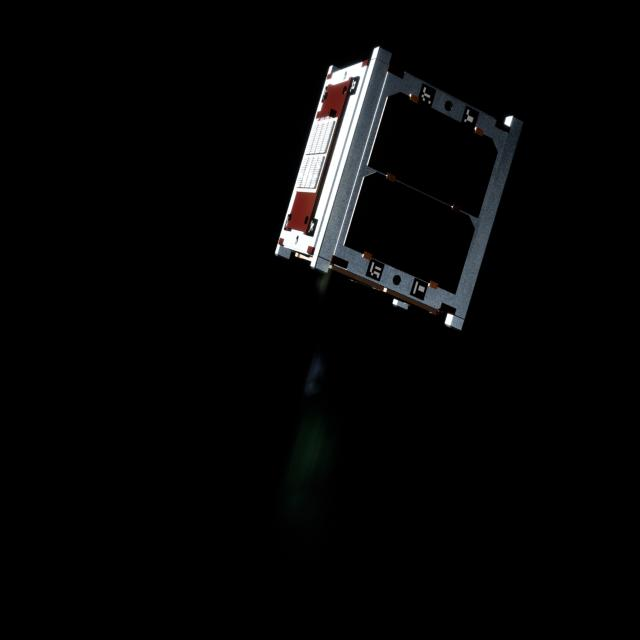medium_debris: (272, 39, 548, 334)
